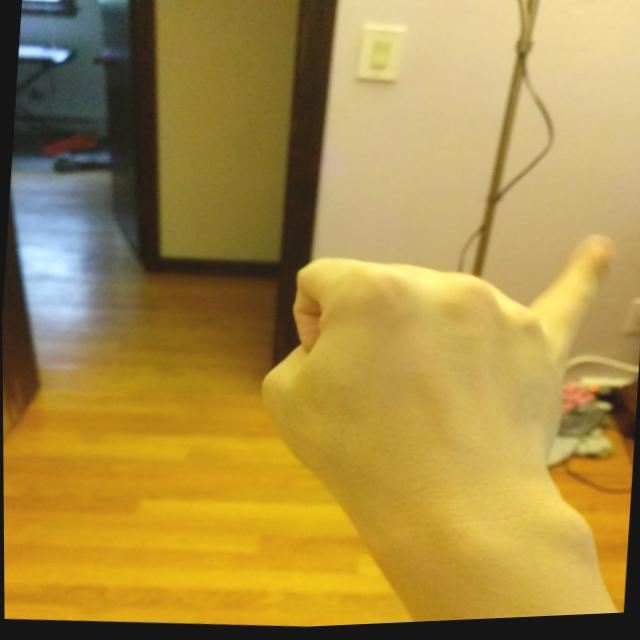J: (240, 201, 636, 537)
